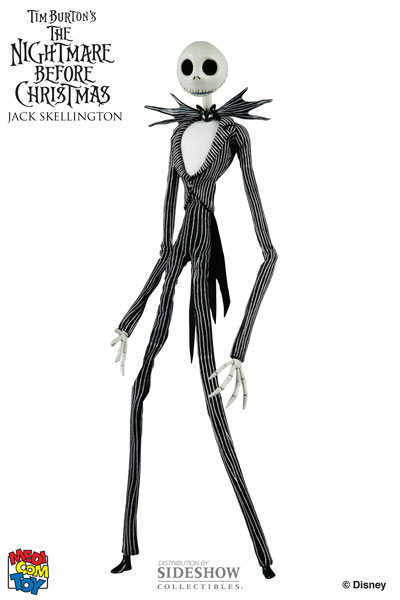Jack Skellington: (109, 40, 280, 579)
